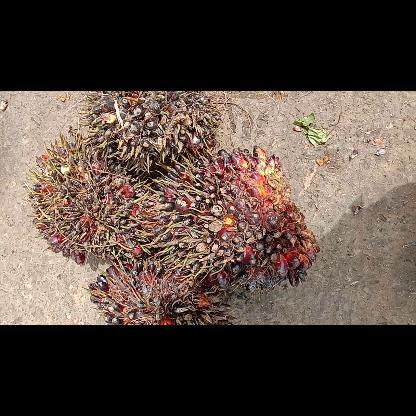TBS abnormal: (160, 150, 319, 290), (33, 135, 155, 257), (80, 91, 220, 173), (91, 262, 235, 324)
